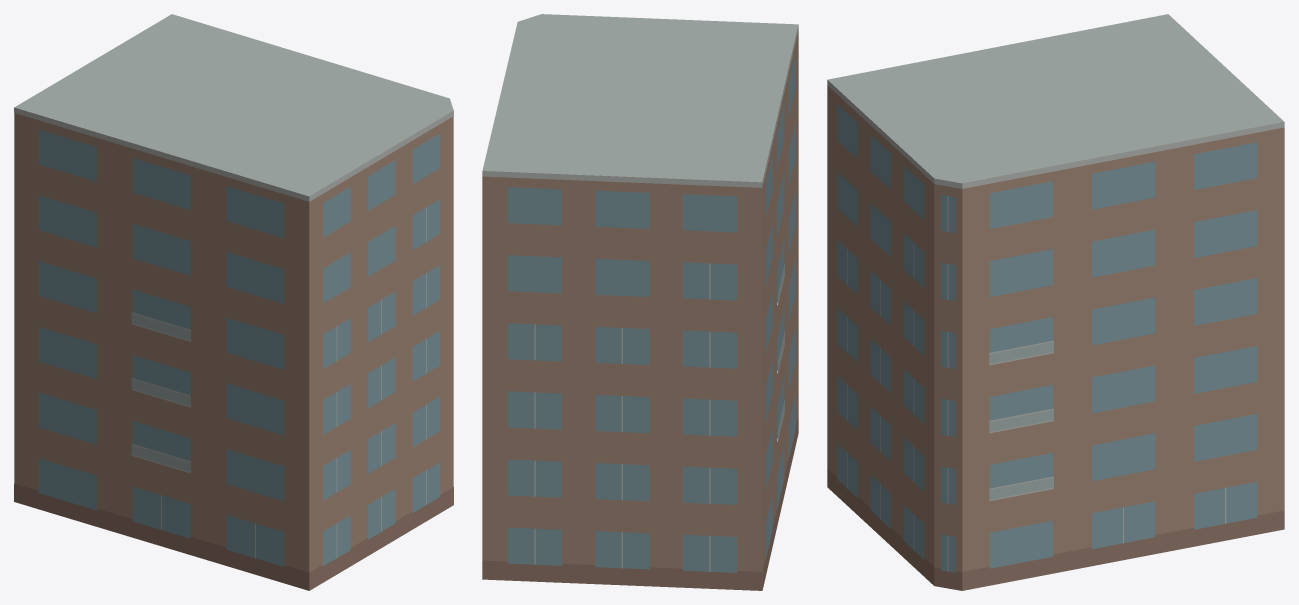
The model's file is survey-upis-32938414.glb.
3 views of the same model, side by side, from view 1: azimuth 30°, elevation 25°; view 2: azimuth 150°, elevation 25°; view 3: azimuth 270°, elevation 25° (orthographic). The views are drawn at different scales.
Parts seen in each view (by area): view 1: survey-upis-32938414.tmp; view 2: survey-upis-32938414.tmp; view 3: survey-upis-32938414.tmp.
Part boxes in pixels (<box>): survey-upis-32938414.tmp: <box>14,14,453,590</box>; survey-upis-32938414.tmp: <box>482,14,798,590</box>; survey-upis-32938414.tmp: <box>827,14,1284,590</box>.
Size of the model in its own units: 15.97 by 17.9 by 18.22.
